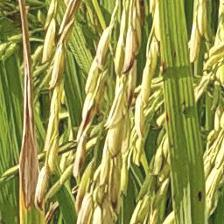2 BacterialBlight: (16, 2, 43, 209)
